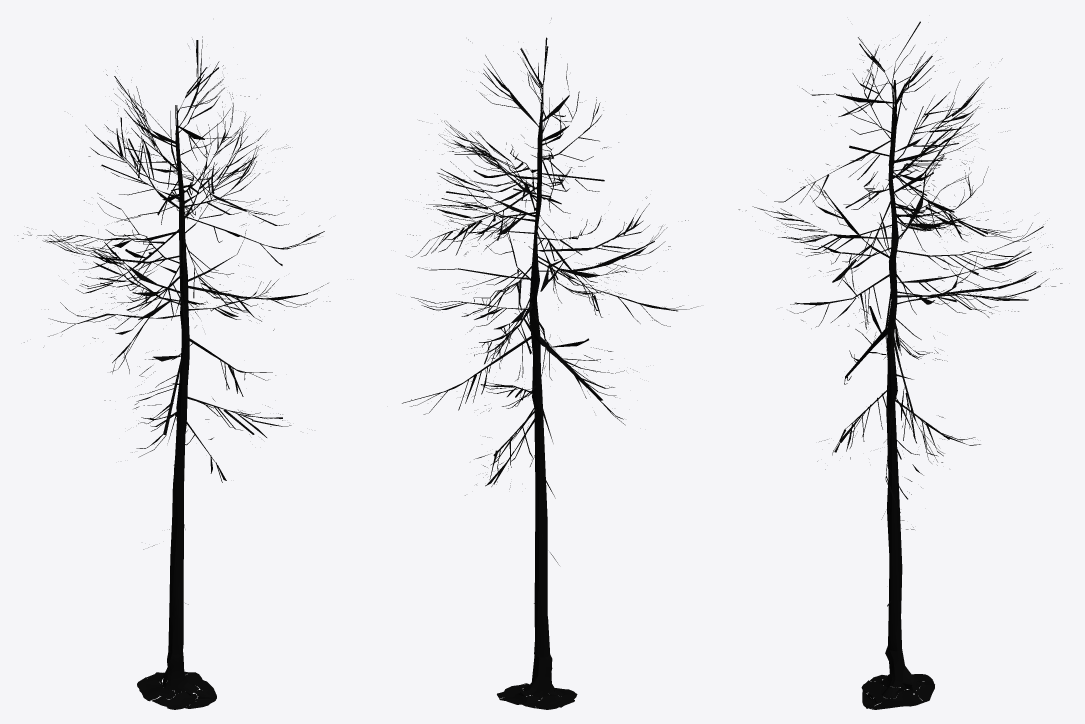
The model's file is Fir_Tall_B.glb.
The picture shows the model from 3 angles, left to right: view 1: azimuth 30°, elevation 25°; view 2: azimuth 150°, elevation 25°; view 3: azimuth 270°, elevation 25°; orthographic projection. The views are drawn at different scales.
Parts seen in each view (by area): view 1: tree; view 2: tree; view 3: tree.
Part boxes in pixels (box(x1,y1,x2,y2)): tree: box(17, 36, 330, 709); tree: box(402, 18, 698, 709); tree: box(738, 21, 1062, 709).
Size of the model in its own units: 5.68 by 12.97 by 5.76.
Materials: 1 (1 with a texture image).
